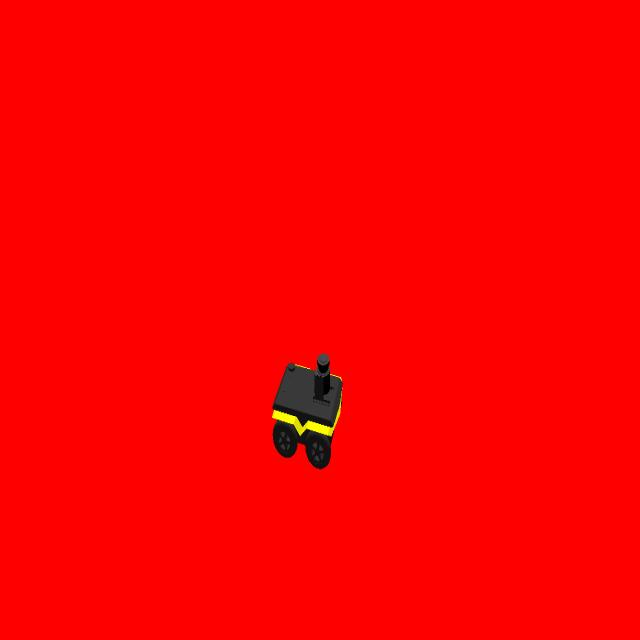jackal: (273, 352, 343, 474)
